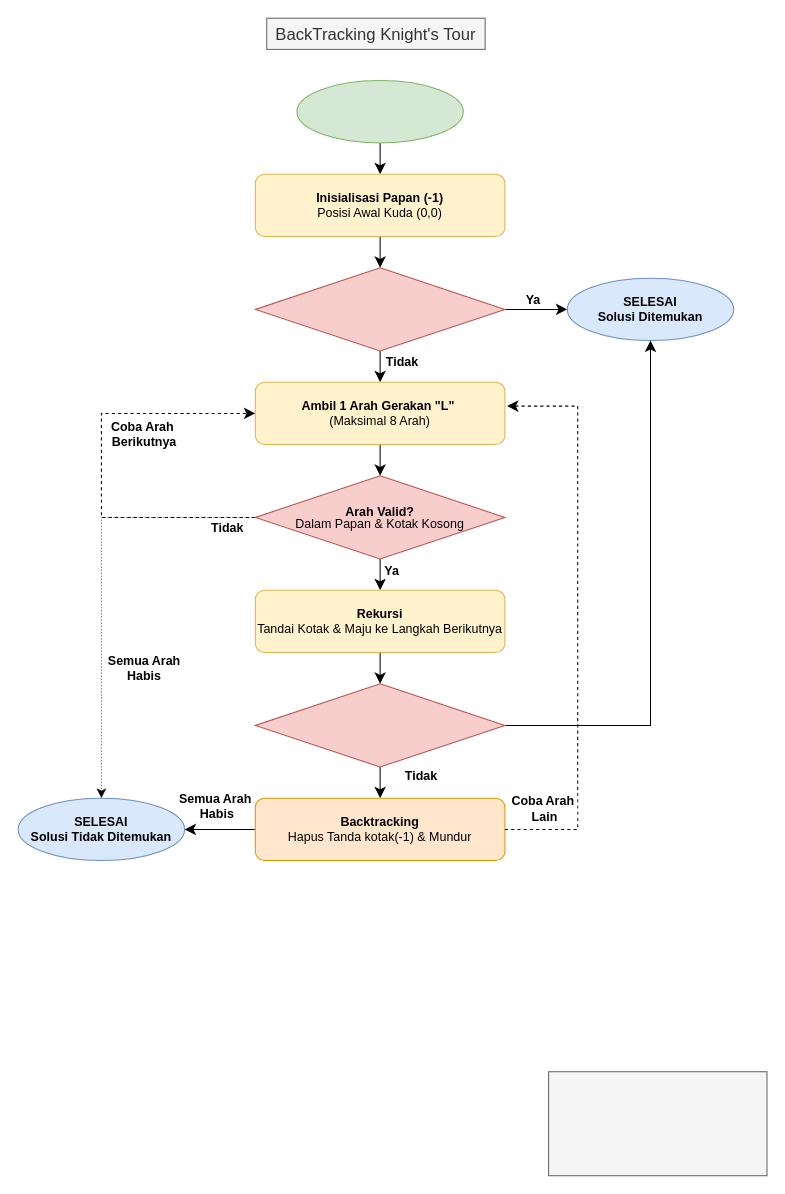
Image size: 785x1194. Some labels were removed from this diagram. Each missing label, with the centre of its shape:
"MULAI" goes at [379,111].
"Rakha Aljiva Prabaswara 21120124140126 Algoritma & Pemrograman Kelas C" goes at [657,1123].
"Semua Papan Penuh? Langkah == Total Kotak" goes at [379,309].
"Solusi Ketemu di Langkah Depan?" goes at [379,725].
